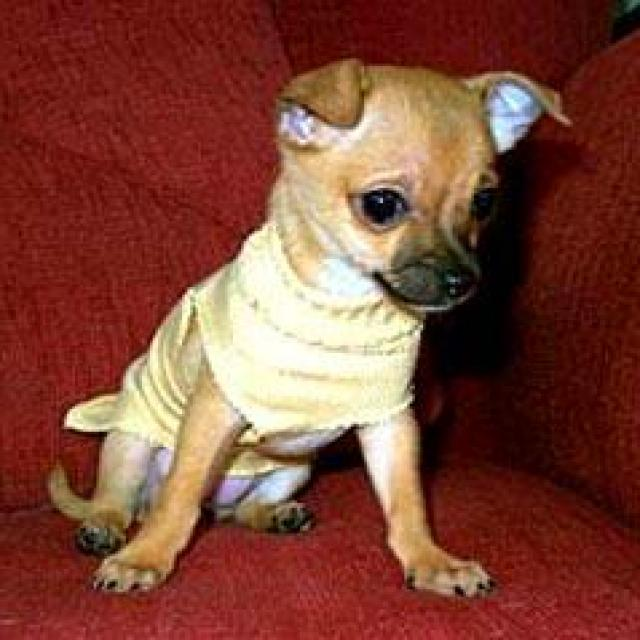chihuahua: (48, 48, 573, 604)
